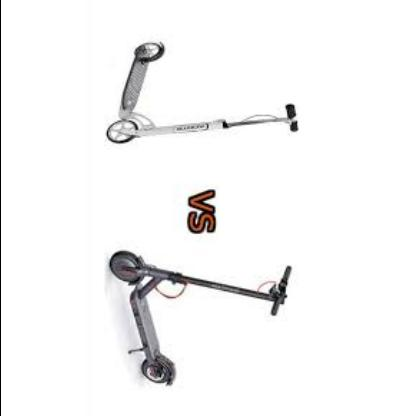bike: (107, 250, 291, 386)
